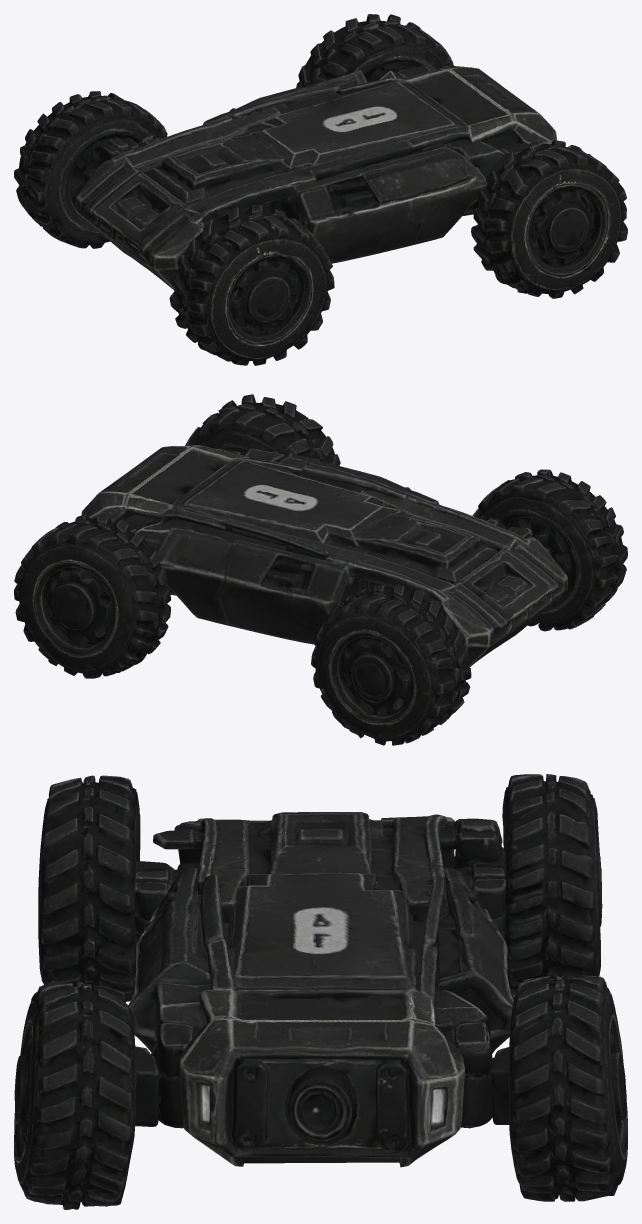
Rendered from drone.glb.
3 views of the same model, one above another, from view 1: azimuth 30°, elevation 25°; view 2: azimuth 150°, elevation 25°; view 3: azimuth 270°, elevation 25° (orthographic). The views are drawn at different scales.
Bounding box in the file's own units: 1.9 × 0.6214 × 1.63.
Materials: 1 (1 with a texture image).
